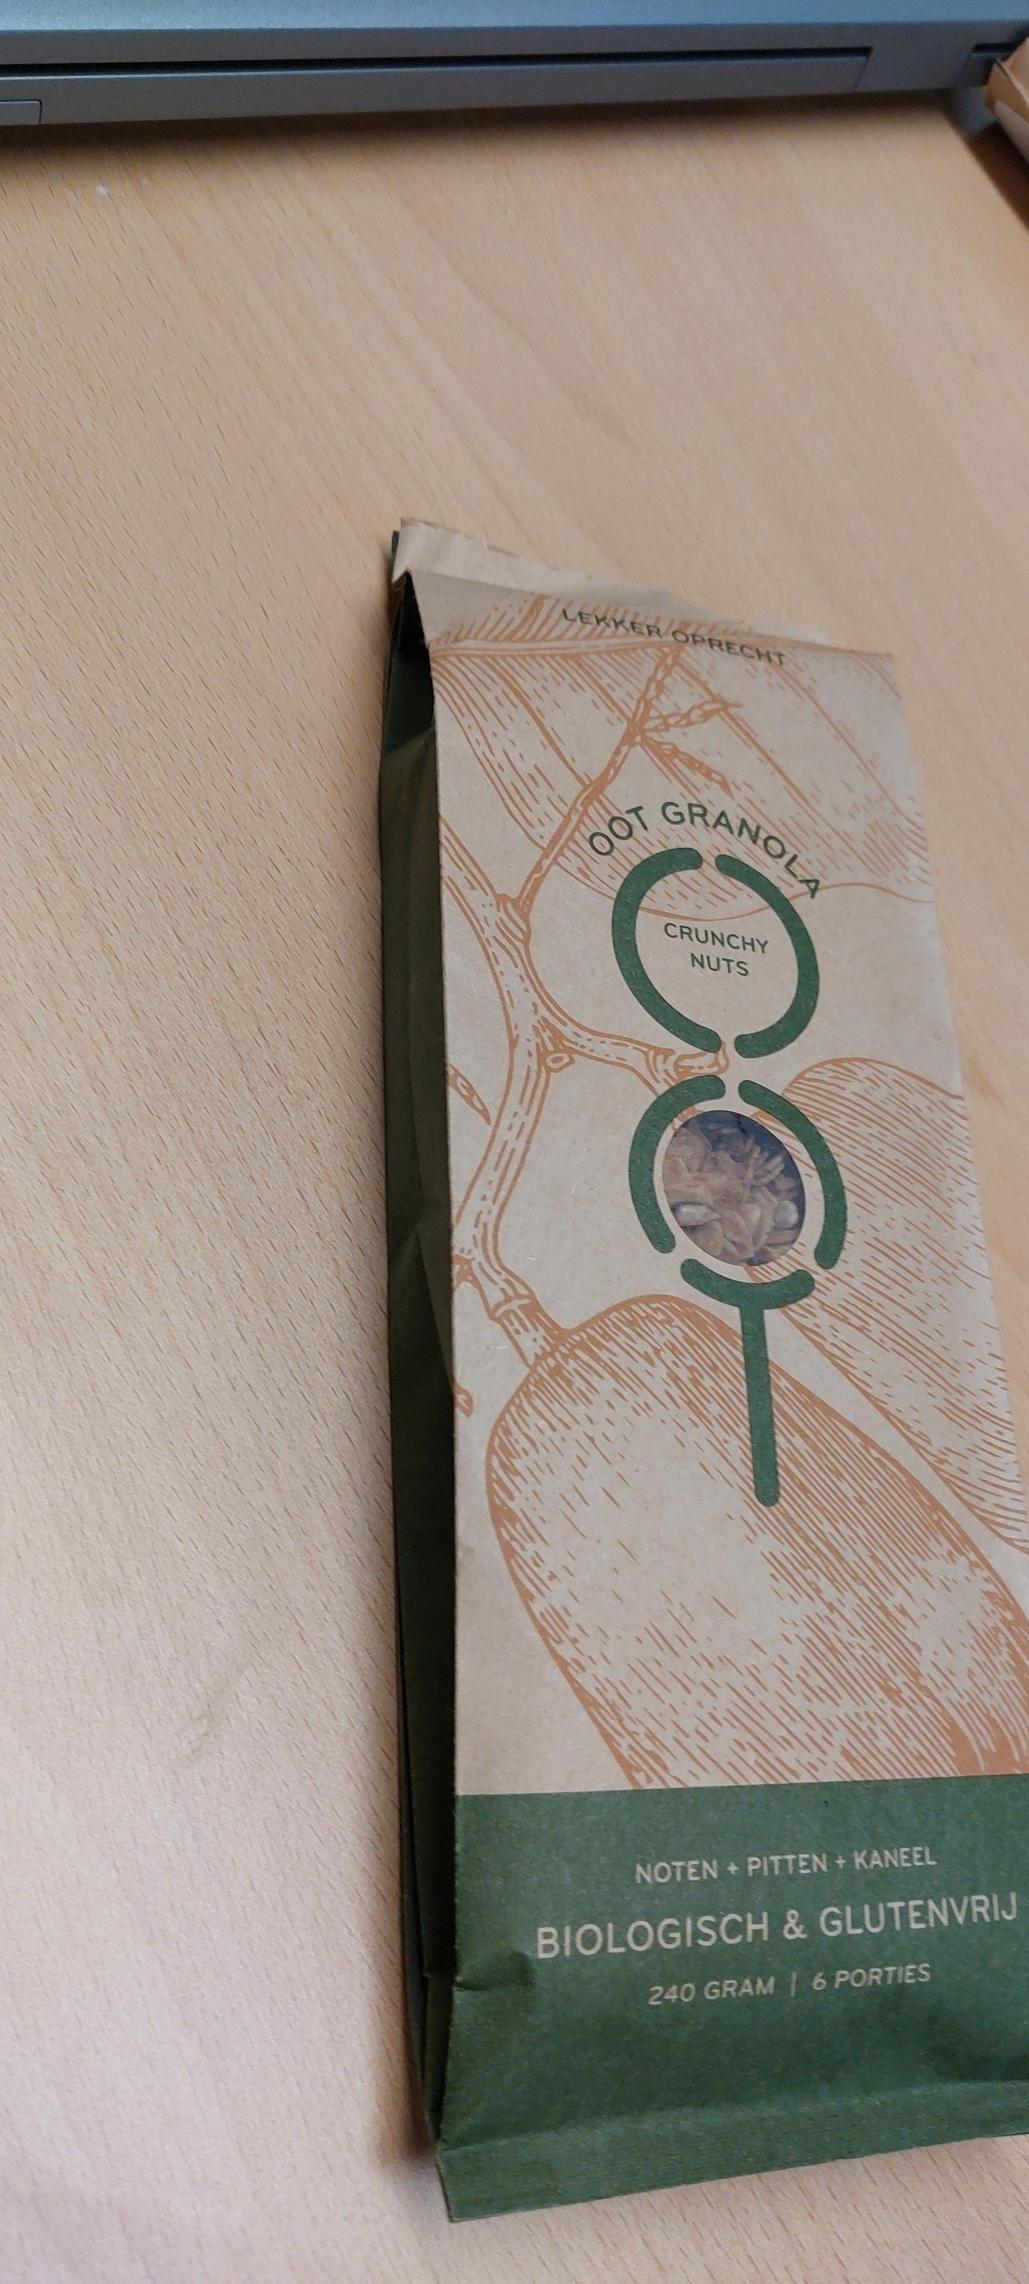CrunchyNuts: (415, 548, 1029, 2098)
